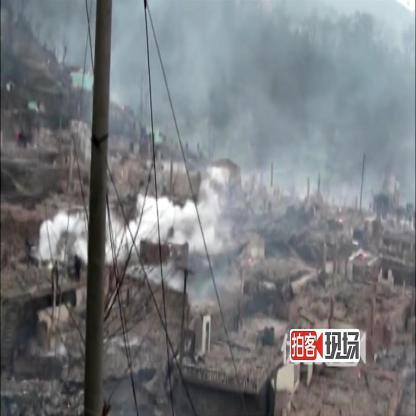smoke: (136, 192, 221, 248), (38, 207, 89, 266), (106, 214, 138, 264), (201, 162, 226, 192)
